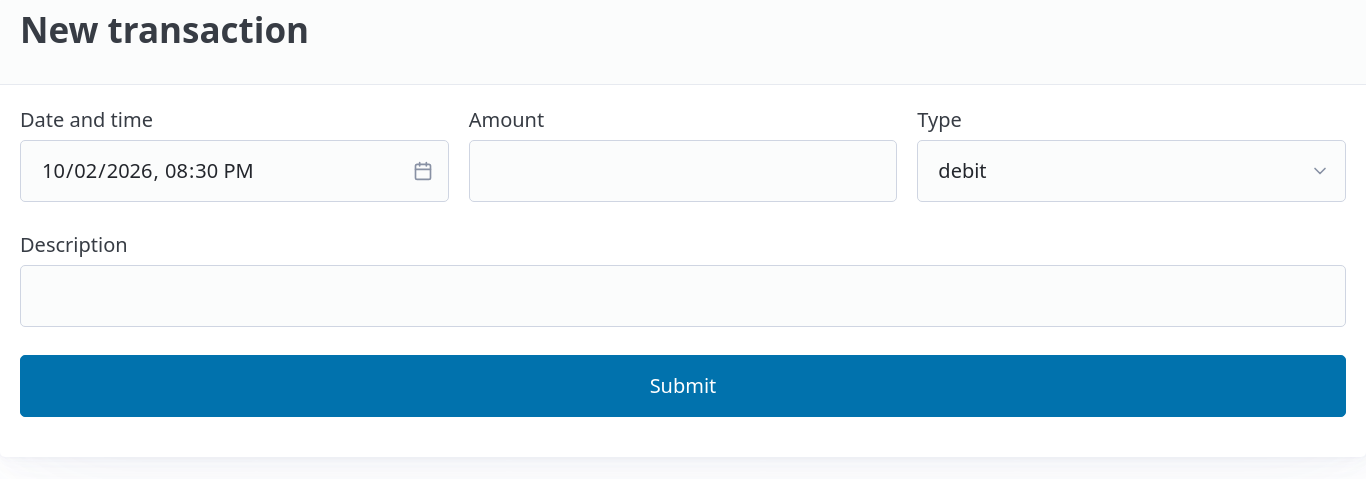
Scenario: TransactionForm › clears the form after a successful submit
Type "10" into the number field labelled "Amount" at (683, 171), box [469,140,897,202]
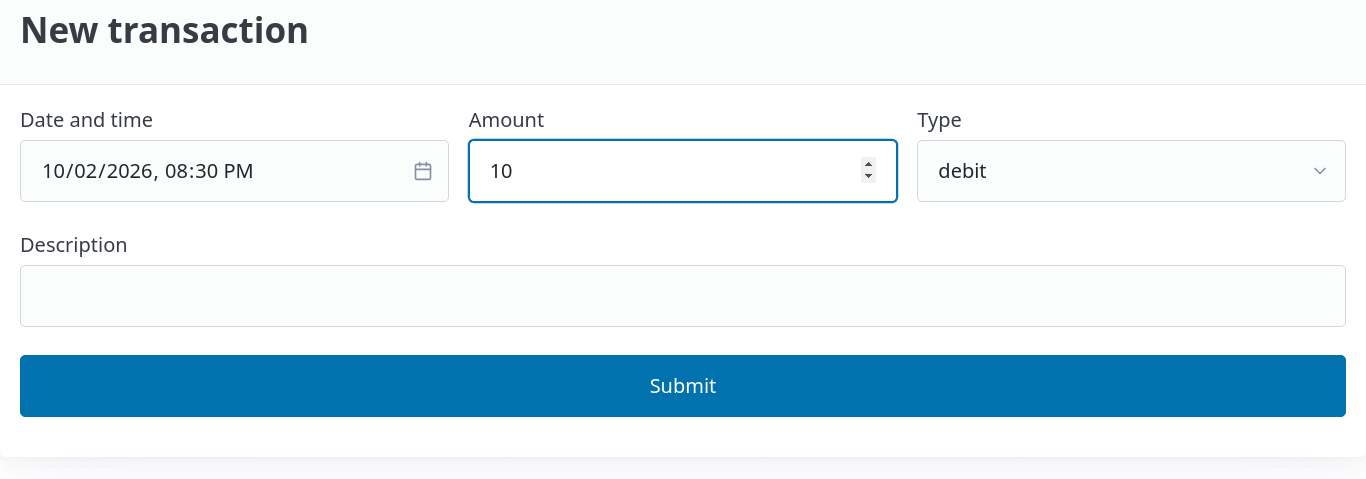
Type "Coffee" into the field labelled "Description" at (683, 296), box [20,265,1346,327]
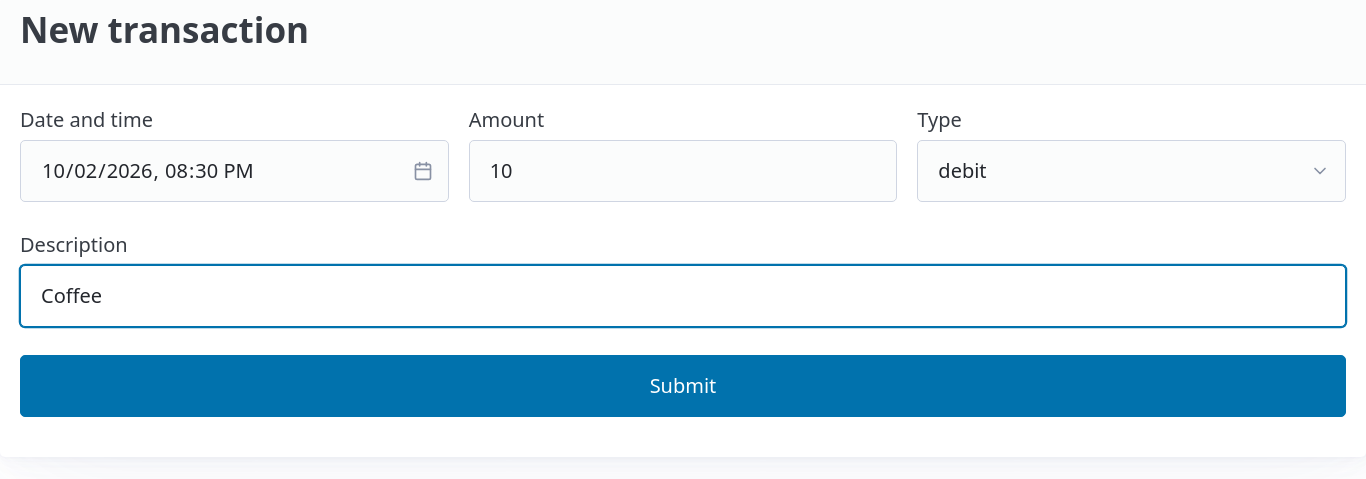
Click the button "Submit" at (683, 386), box [20,355,1346,417]
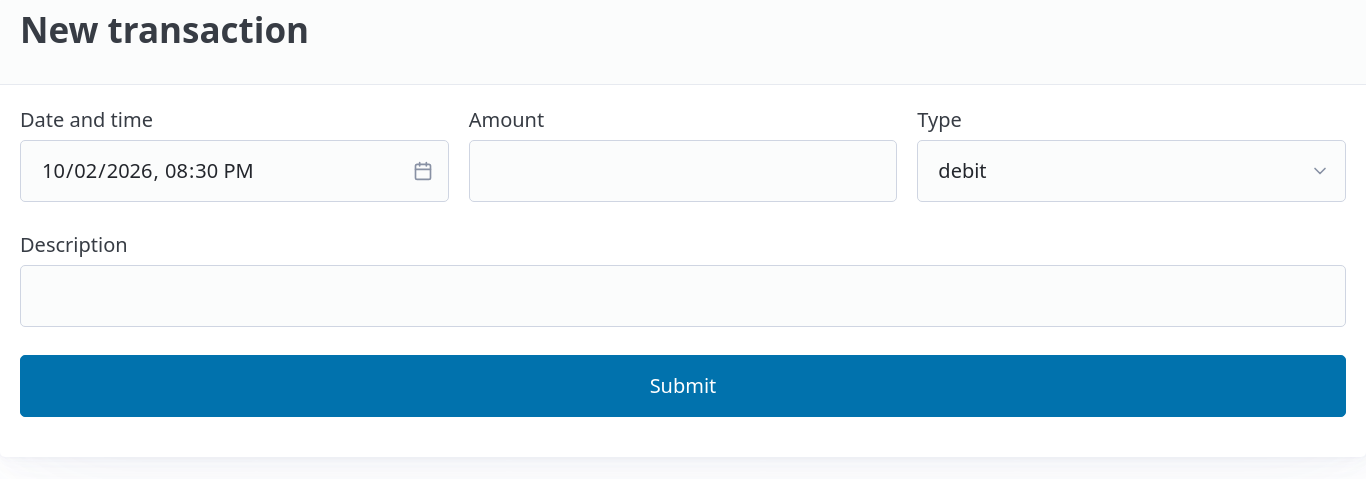
Result: the number field labelled "Amount" is not empty at [469,140,897,202]
Result: the field labelled "Description" is empty at [20,265,1346,327]
